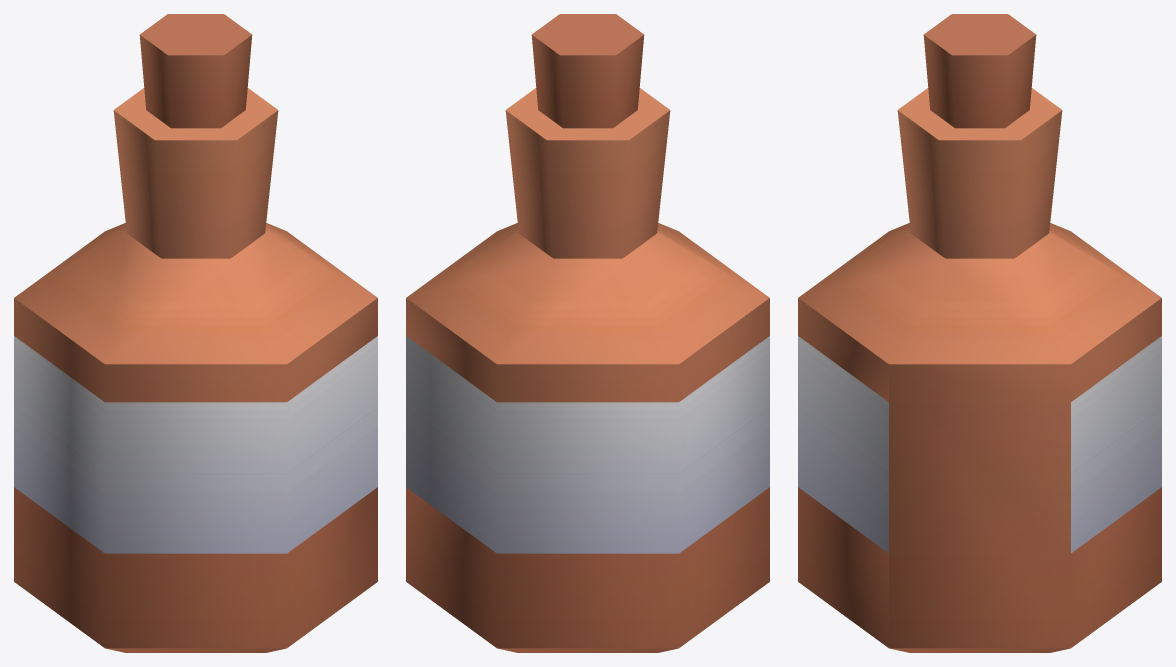
The model's file is bottle-large.glb.
3 renders of one model, left to right at view 1: azimuth 30°, elevation 25°; view 2: azimuth 150°, elevation 25°; view 3: azimuth 270°, elevation 25°, orthographic.
Visible parts, largest first — view 1: bottle-large; view 2: bottle-large; view 3: bottle-large.
Boxes of the visible parts, x1,y1,x2,y2 form: bottle-large: (14, 14, 377, 652); bottle-large: (406, 14, 769, 652); bottle-large: (798, 14, 1161, 652).
Size of the model in its own units: 0.0725 by 0.1439 by 0.0837.
Materials: 1 (1 with a texture image).
